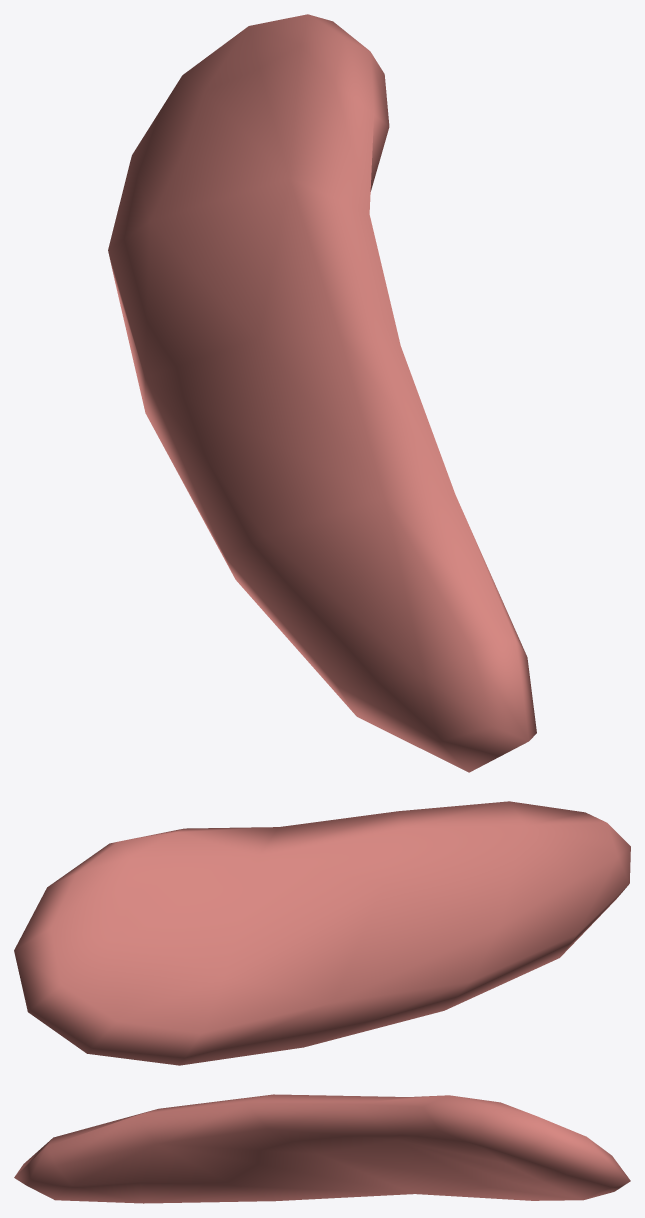
The picture shows the model from 3 angles, top to bottom: view 1: azimuth 30°, elevation 25°; view 2: azimuth 150°, elevation 25°; view 3: azimuth 270°, elevation 25°; orthographic projection. The views are drawn at different scales.
Parts seen in each view (by area): view 1: ZA_d070fa29a5c933da; view 2: ZA_d070fa29a5c933da; view 3: ZA_d070fa29a5c933da.
Boxes of the visible parts, x1=… form: ZA_d070fa29a5c933da: x1=108, y1=14, x2=536, y2=772; ZA_d070fa29a5c933da: x1=14, y1=801, x2=630, y2=1065; ZA_d070fa29a5c933da: x1=14, y1=1094, x2=630, y2=1203.
Bounding box in the file's own units: 0.00199 × 0.00162 × 0.00522.
